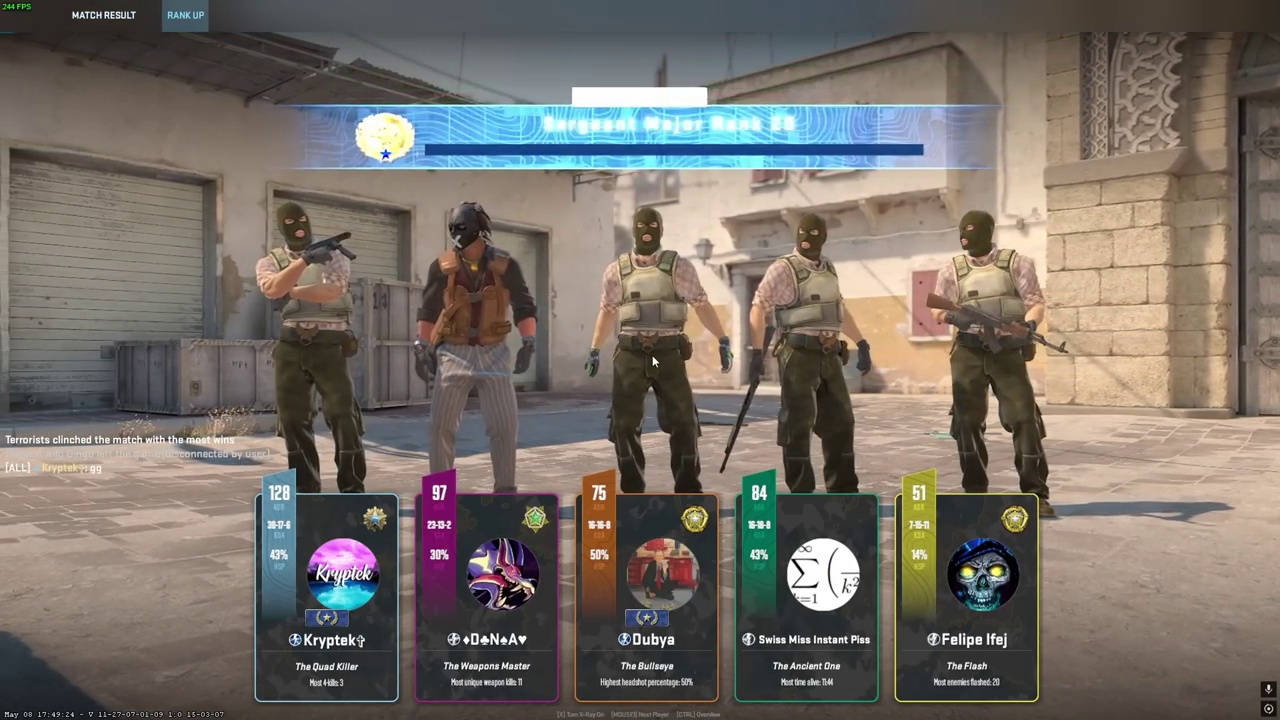Terrorist: (936, 209, 1052, 520), (422, 202, 528, 495), (599, 204, 705, 496), (260, 201, 364, 494), (766, 214, 864, 495)
